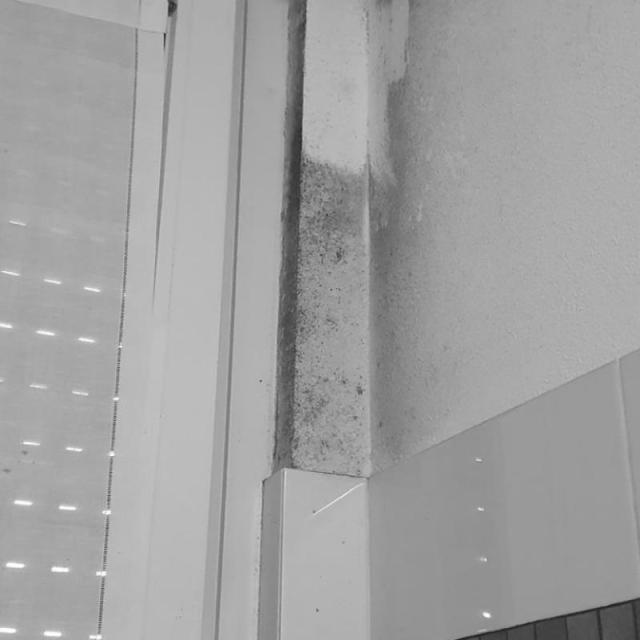stain marks: (270, 0, 439, 474)
